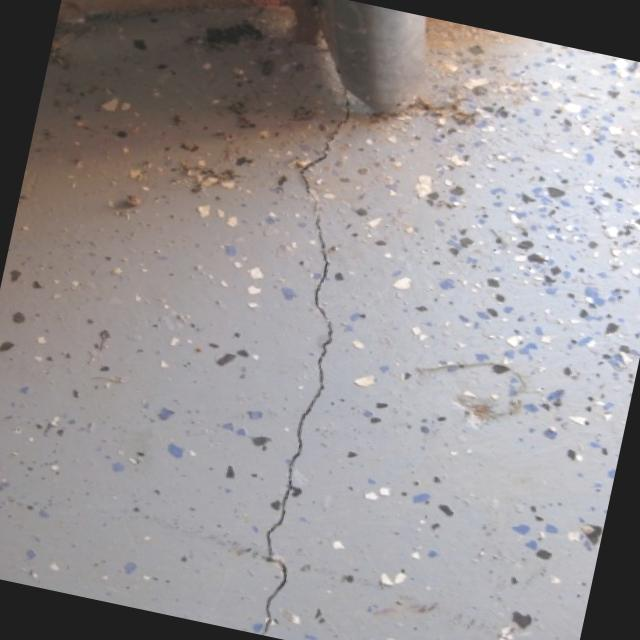crack: (205, 83, 392, 636)
